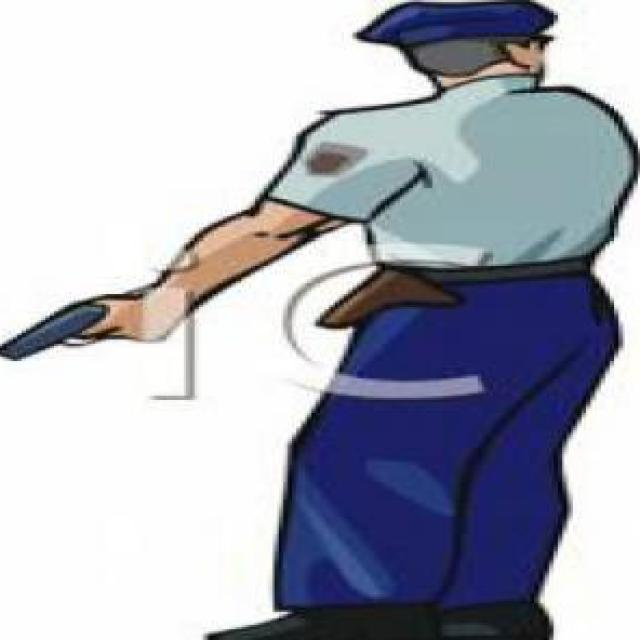pistol: (0, 301, 123, 363)
